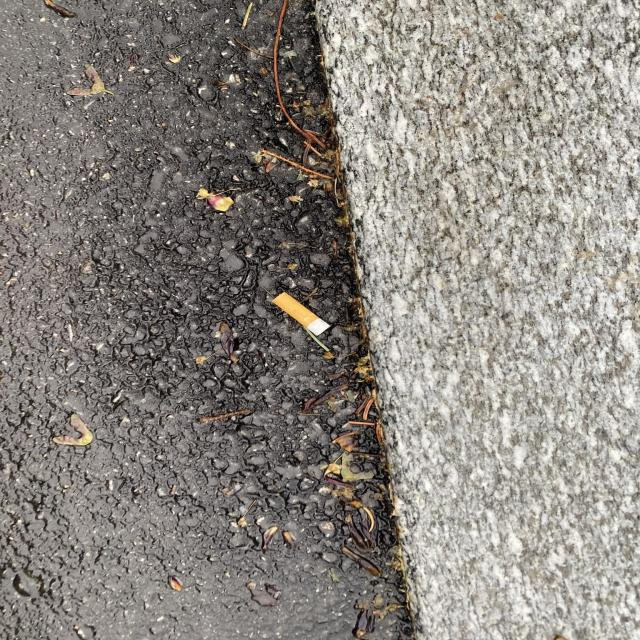other waste: (272, 292, 331, 336)
